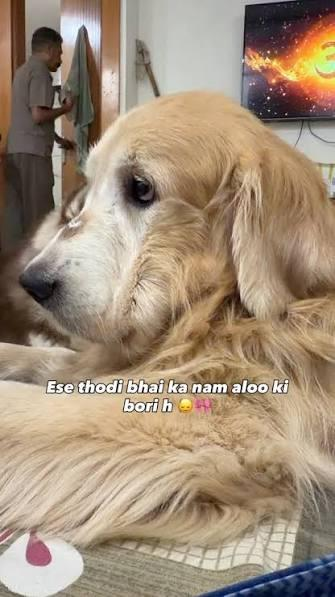adult_dog: (1, 89, 335, 551)
non-dog: (5, 28, 75, 266)
